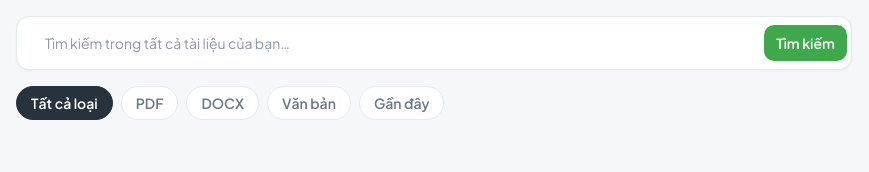
Scenario: SearchPage › shows an empty state when no results are found
This screenshot has width=869, height=172.
Type "nothing matches" into the field named "Tìm kiếm tài liệu của bạn" at (393, 43), box [33,21,752,65]
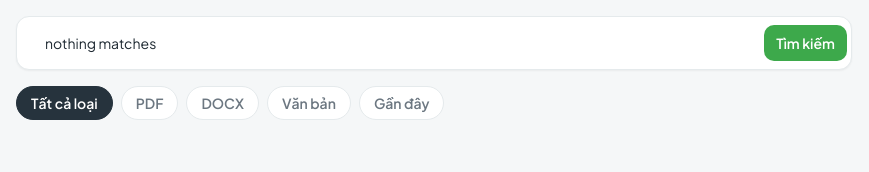
Click the button "Tìm kiếm" at (806, 43), box [764,25,847,61]
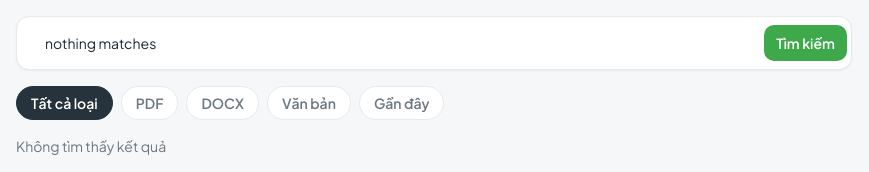
Check: the text "Không tìm thấy kết quả" is shown, box [16,137,166,155]
